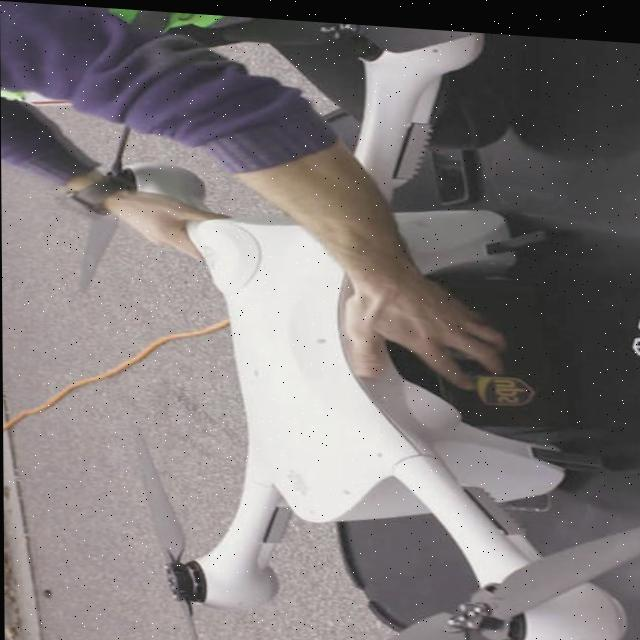drone: (80, 30, 624, 640)
